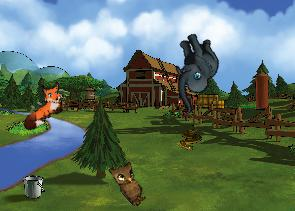elephant: (153, 27, 235, 115)
fox: (11, 77, 73, 133)
owl: (104, 155, 156, 208)
